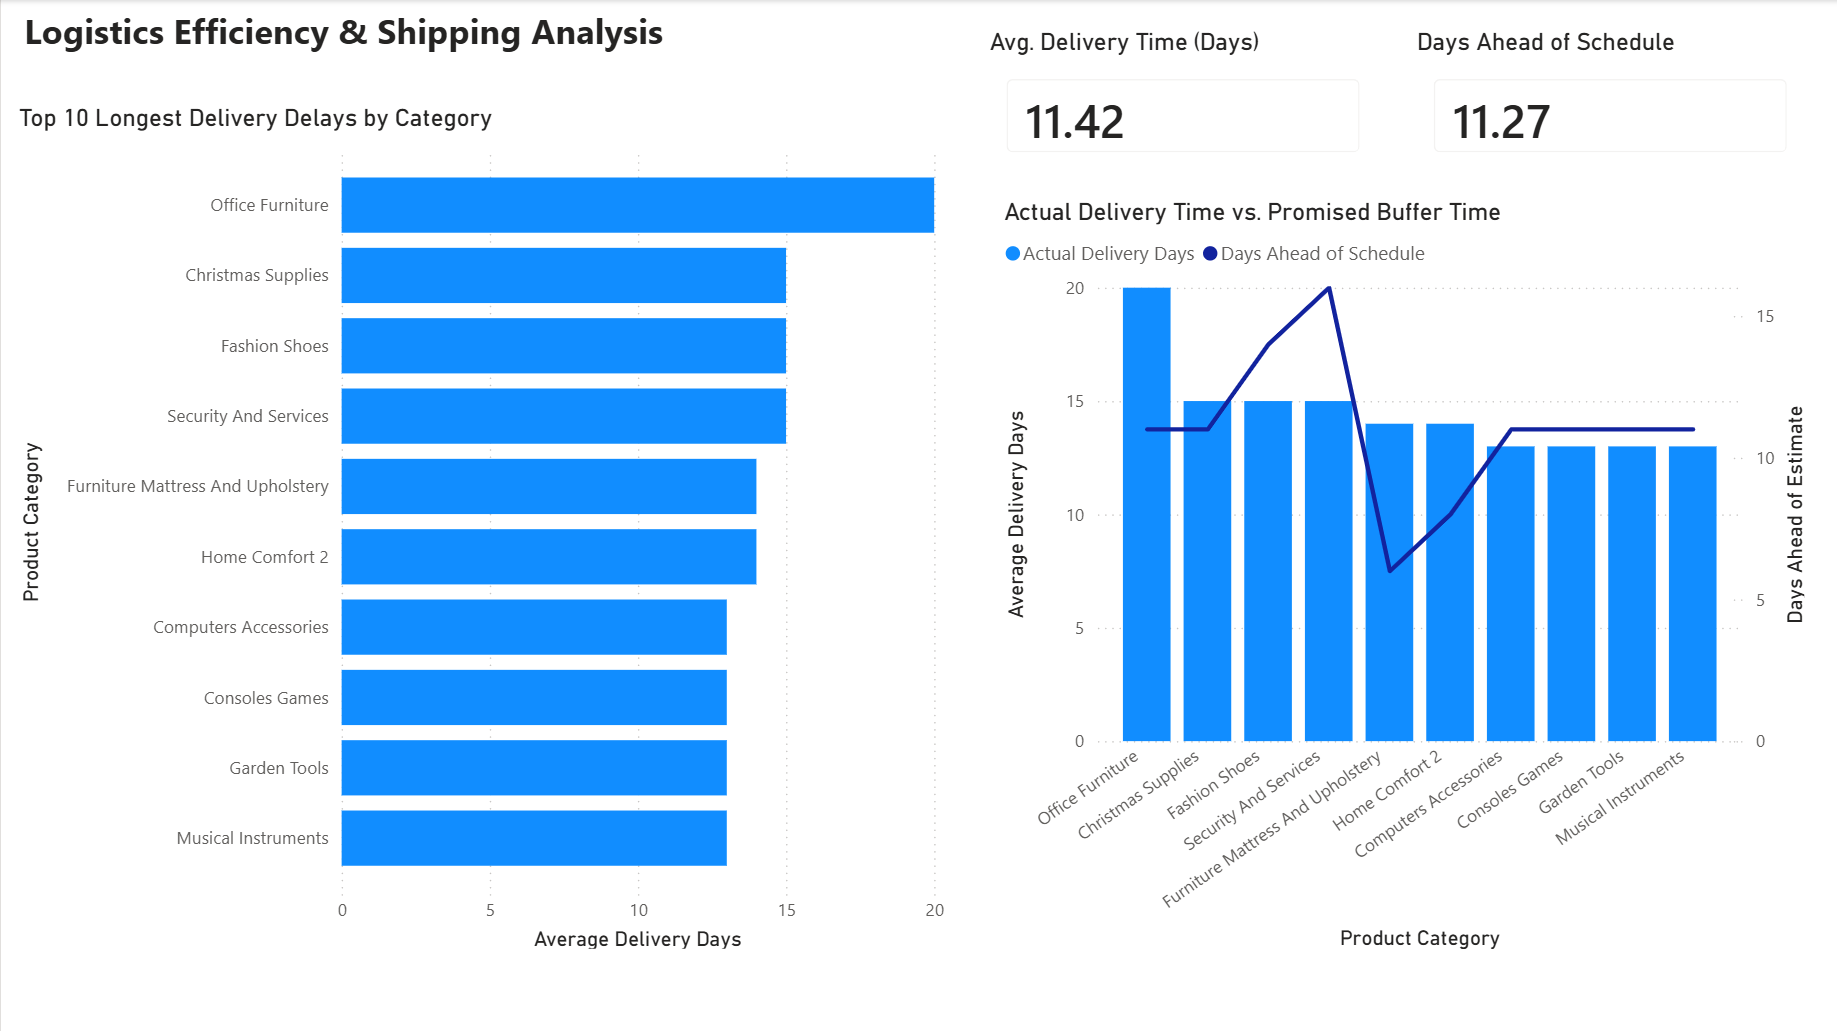

This screenshot's page, from the dashboard's own definition file:
{"tool":"powerbi","page":{"name":"Logistics & Delivery Performance","canvas":[1280,720],"ordinal":1},"visuals":[{"type":"cardVisual","title":"Avg. Delivery Time (Days)","fields":{"Data":["Avg(Query2.avg_delivery_days)"]},"box":[684,19.2,280.1,104.5],"z":0},{"type":"cardVisual","title":"Days Ahead of Schedule","fields":{"Data":["Avg(Query2.avg_days_ahead_of_estimate)"]},"box":[981.6,19.2,280.1,104.5],"z":1000},{"type":"clusteredBarChart","title":"Top 10 Longest Delivery Delays by Category","fields":{"Category":["Query2.category_english"],"Y":["Sum(Query2.avg_delivery_days)"]},"box":[7.5,71.9,654.7,594.5],"z":2000},{"type":"lineStackedColumnComboChart","title":"Actual Delivery Time vs. Promised Buffer Time","fields":{"Category":["Query2.category_english"],"Y":["Sum(Query2.avg_delivery_days)"],"Y2":["Sum(Query2.avg_days_ahead_of_estimate)"]},"box":[694,137.1,567.7,529.3],"z":3000},{"type":"textbox","box":[7.5,0,614.6,46.8],"z":4000}]}

Visuals, with their boxes in screenshot pixels (x1, y1, x2, y2), scaled from the page's 1280x720 canvas onto the 1837x1031 screenshot:
"Avg. Delivery Time (Days)" cardVisual: (x1=982, y1=27, x2=1384, y2=177)
"Days Ahead of Schedule" cardVisual: (x1=1409, y1=27, x2=1811, y2=177)
"Top 10 Longest Delivery Delays by Category" clusteredBarChart: (x1=11, y1=103, x2=950, y2=954)
"Actual Delivery Time vs. Promised Buffer Time" lineStackedColumnComboChart: (x1=996, y1=196, x2=1811, y2=954)
textbox: (x1=11, y1=0, x2=893, y2=67)
